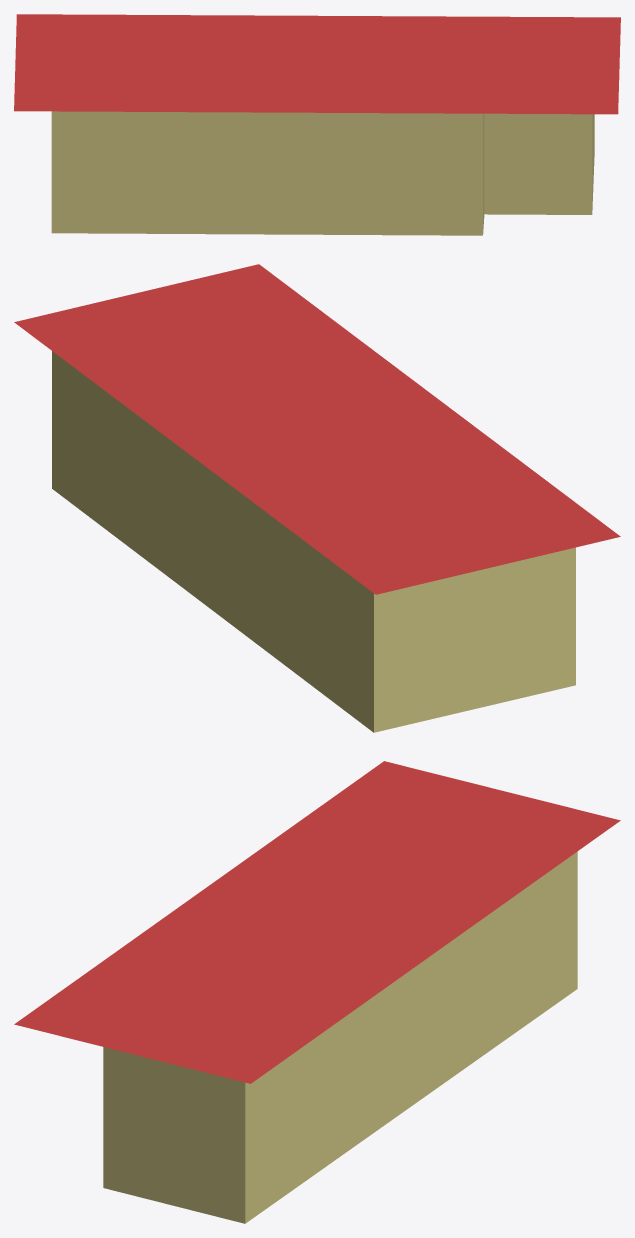
3 views of the same model, one above another, from view 1: azimuth 30°, elevation 25°; view 2: azimuth 150°, elevation 25°; view 3: azimuth 270°, elevation 25° (orthographic). The views are drawn at different scales.
Size of the model in its own units: 27.23 by 21.64 by 6.17.
